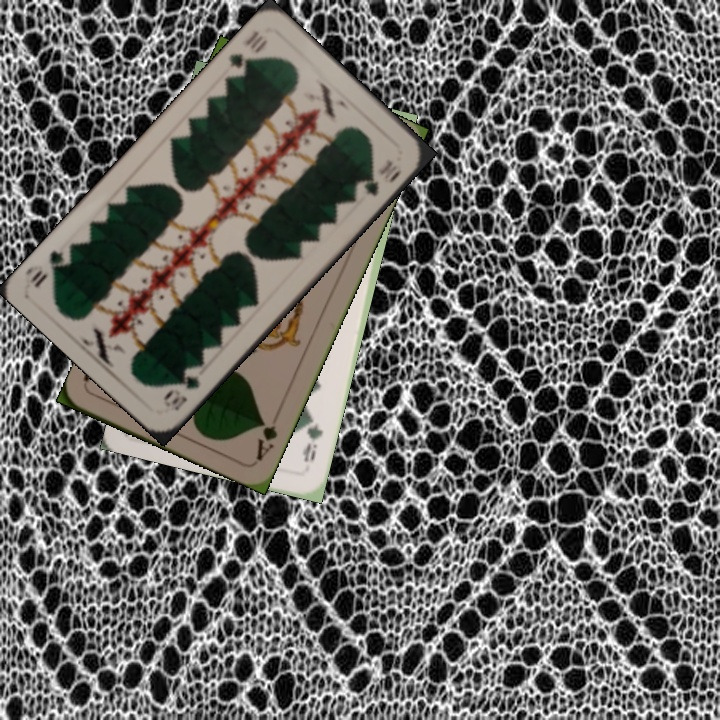G10: (225, 26, 271, 80), (159, 371, 202, 414)
G9: (298, 413, 326, 465)
GA: (252, 414, 281, 464)
